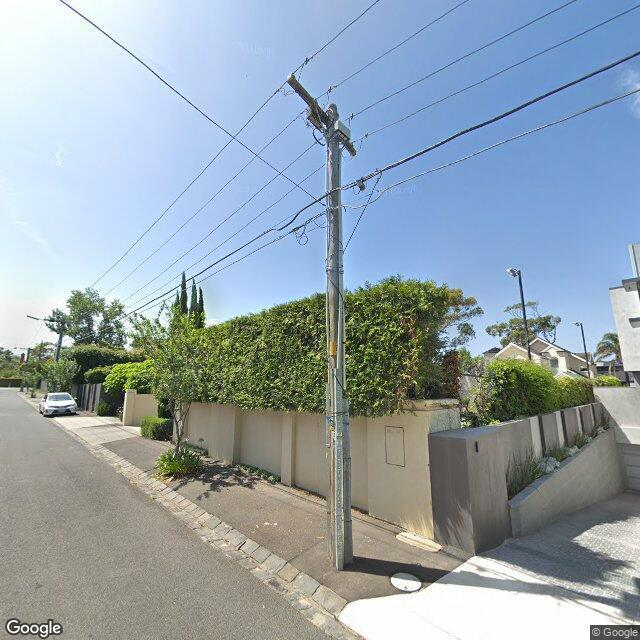crossarm: (273, 54, 369, 158), (44, 317, 78, 323)
streetlight: (27, 314, 44, 321)
timber-pole: (325, 103, 354, 570), (56, 319, 66, 361)
